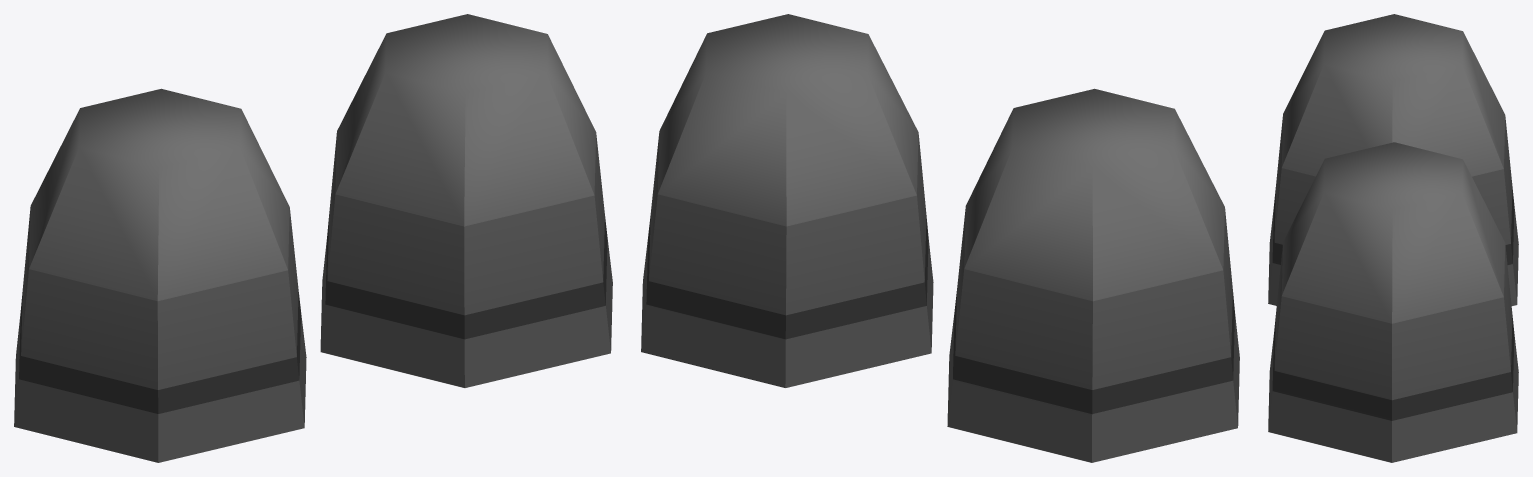
3 renders of one model, left to right at view 1: azimuth 30°, elevation 25°; view 2: azimuth 150°, elevation 25°; view 3: azimuth 270°, elevation 25°, orthographic. The views are drawn at different scales.
Visible parts, largest first — view 1: SM_Veh_Rocket_19; view 2: SM_Veh_Rocket_19; view 3: SM_Veh_Rocket_19.
Part boxes in pixels (left/top/right/bottom): SM_Veh_Rocket_19: left=14, top=14, right=612, bottom=462; SM_Veh_Rocket_19: left=641, top=14, right=1239, bottom=462; SM_Veh_Rocket_19: left=1268, top=14, right=1518, bottom=462.
Size of the model in its own units: 1.6 by 0.6758 by 0.6784.
Materials: 1 (1 with a texture image).
